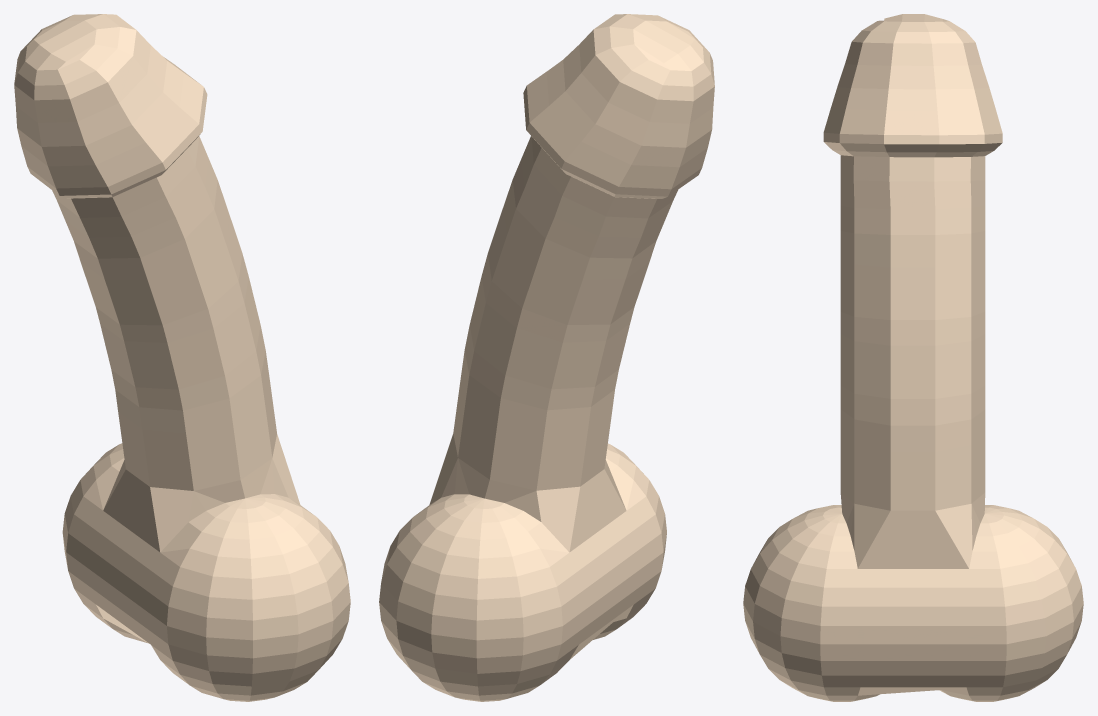
The model's file is beidl.fbx.
3 renders of one model, left to right at view 1: azimuth 30°, elevation 25°; view 2: azimuth 150°, elevation 25°; view 3: azimuth 270°, elevation 25°, orthographic. The views are drawn at different scales.
Parts seen in each view (by area): view 1: Beidl; view 2: Beidl; view 3: Beidl.
Boxes of the visible parts, box(x1,y1,x2,y2) form: Beidl: box(14, 14, 350, 701); Beidl: box(379, 14, 714, 701); Beidl: box(743, 14, 1083, 701).
Bounding box in the file's own units: 2.49 × 5.82 × 2.9.
